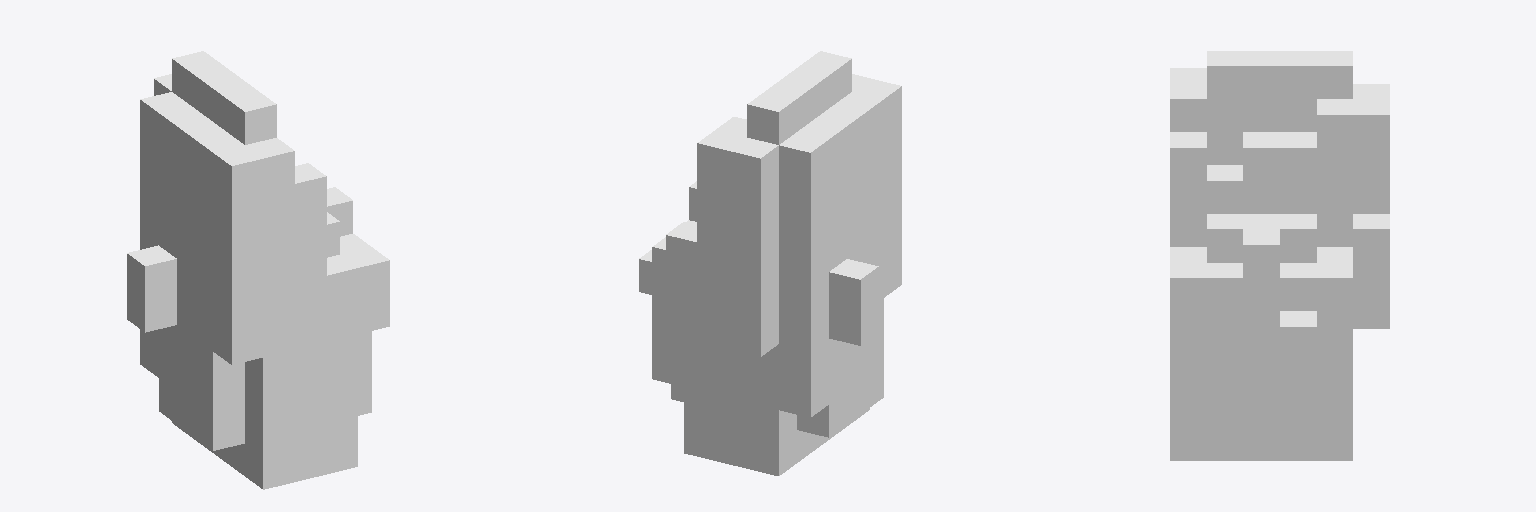
The model's file is Zed_3-1.obj.
The picture shows the model from 3 angles: view 1: azimuth 30°, elevation 25°; view 2: azimuth 150°, elevation 25°; view 3: azimuth 270°, elevation 25°; orthographic projection.
Visible parts, largest first — view 1: object 1; view 2: object 1; view 3: object 1.
Part boxes in pixels (bbox=[...]): object 1: bbox=[127, 51, 389, 489]; object 1: bbox=[639, 51, 901, 475]; object 1: bbox=[1170, 51, 1389, 460].
Size of the model in its own units: 0.7 by 1.1 by 0.6.